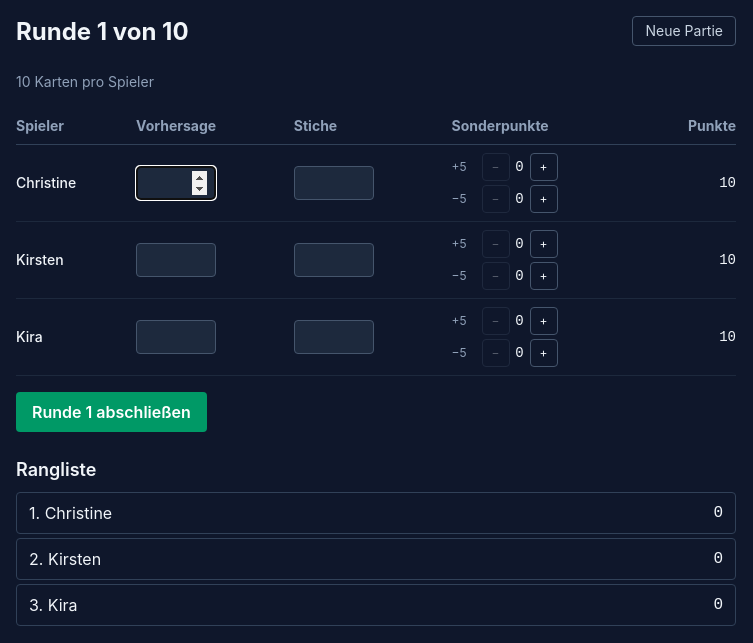
it: RoundEntryScreen › live-updates the round score as values are entered
The width and height of the screenshot is (753, 643).
In the number field named "Vorhersage Christine": [176, 183] box x1=136 y1=166 x2=216 y2=200, type "2"
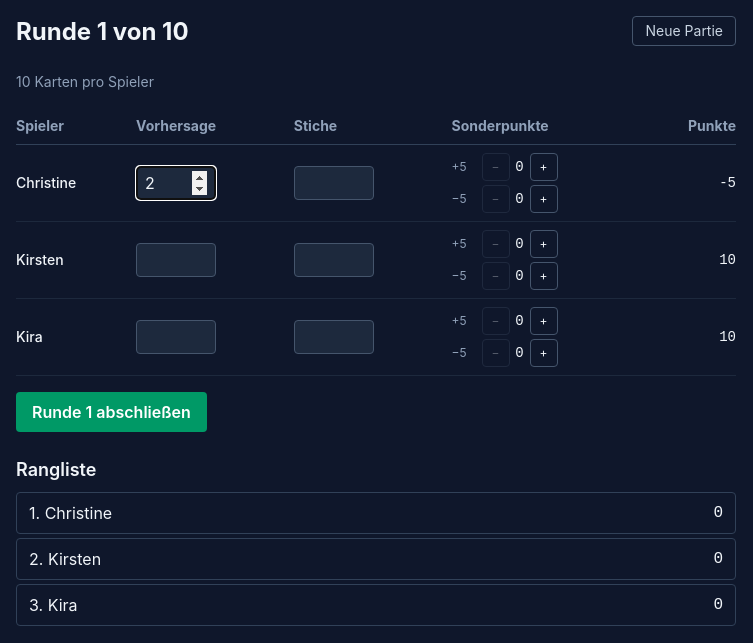
In the number field named "Stiche Christine": [334, 183] box x1=294 y1=166 x2=374 y2=200, type "2"
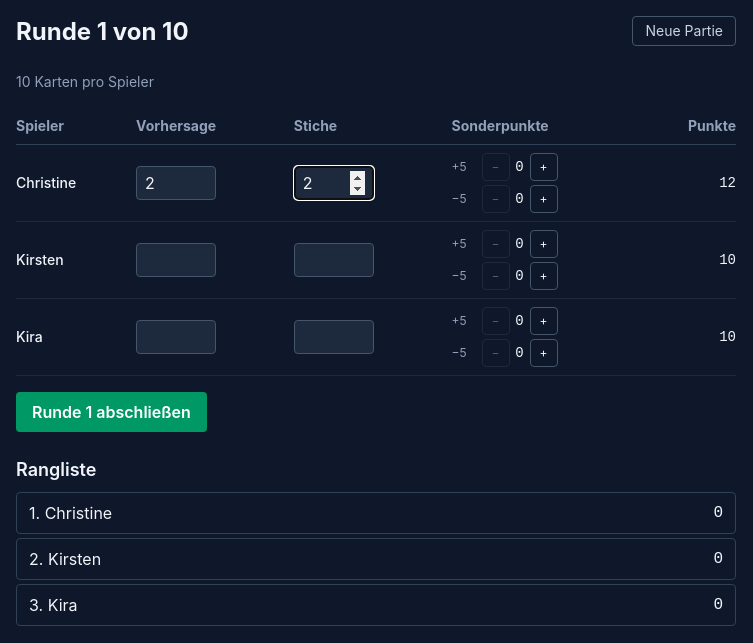
Expected: the text "12" is shown, x1=644 y1=144 x2=736 y2=222
